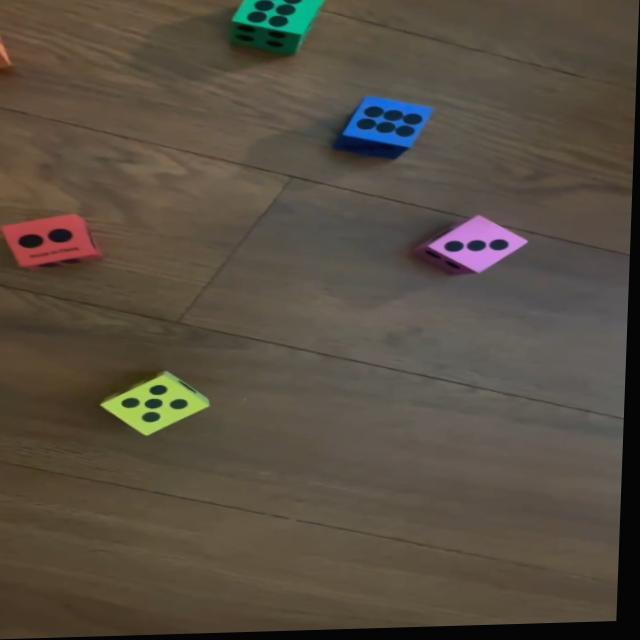blue_block: (333, 95, 438, 163)
red_block: (0, 211, 109, 270)
